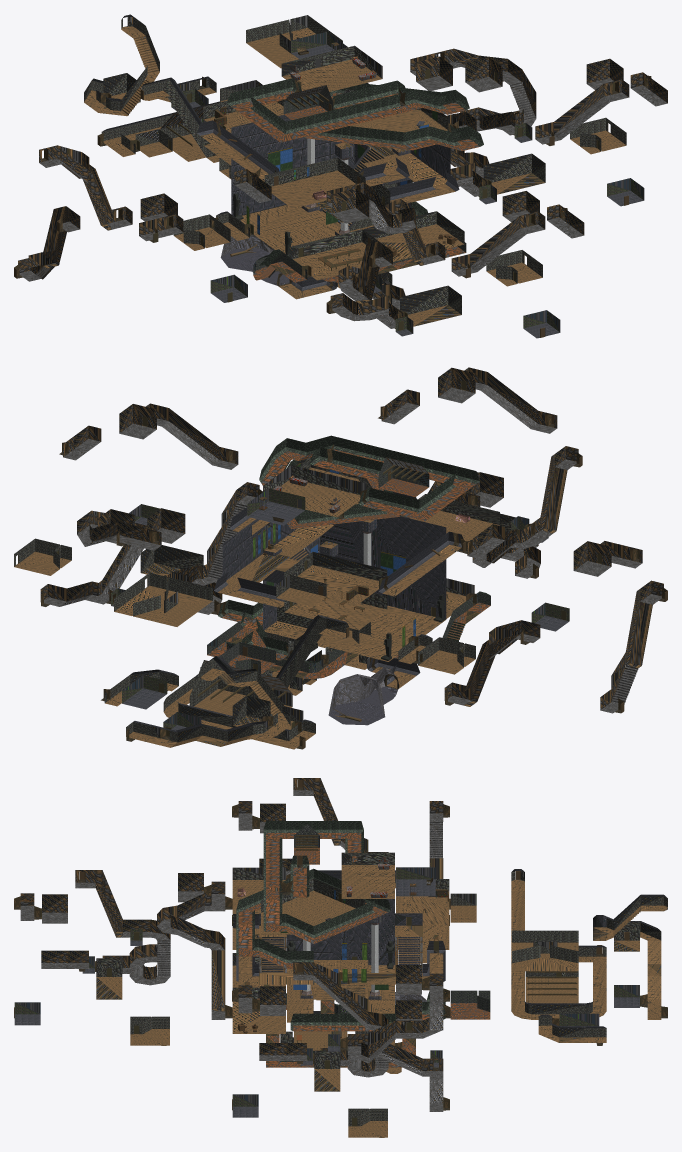
File: privateers-hold.glb
3 renders of one model, top to bottom at view 1: azimuth 30°, elevation 25°; view 2: azimuth 150°, elevation 25°; view 3: azimuth 270°, elevation 25°, orthographic. The views are drawn at different scales.
Parts seen in each view (by area): view 1: privateers-hold; view 2: privateers-hold; view 3: privateers-hold.
Part boxes in pixels (bbox=[...]): privateers-hold: bbox=[14, 14, 667, 338]; privateers-hold: bbox=[14, 367, 667, 749]; privateers-hold: bbox=[14, 778, 667, 1137].
Size of the model in its own units: 154 by 51.1 by 154.
Materials: 79 (79 with a texture image).
